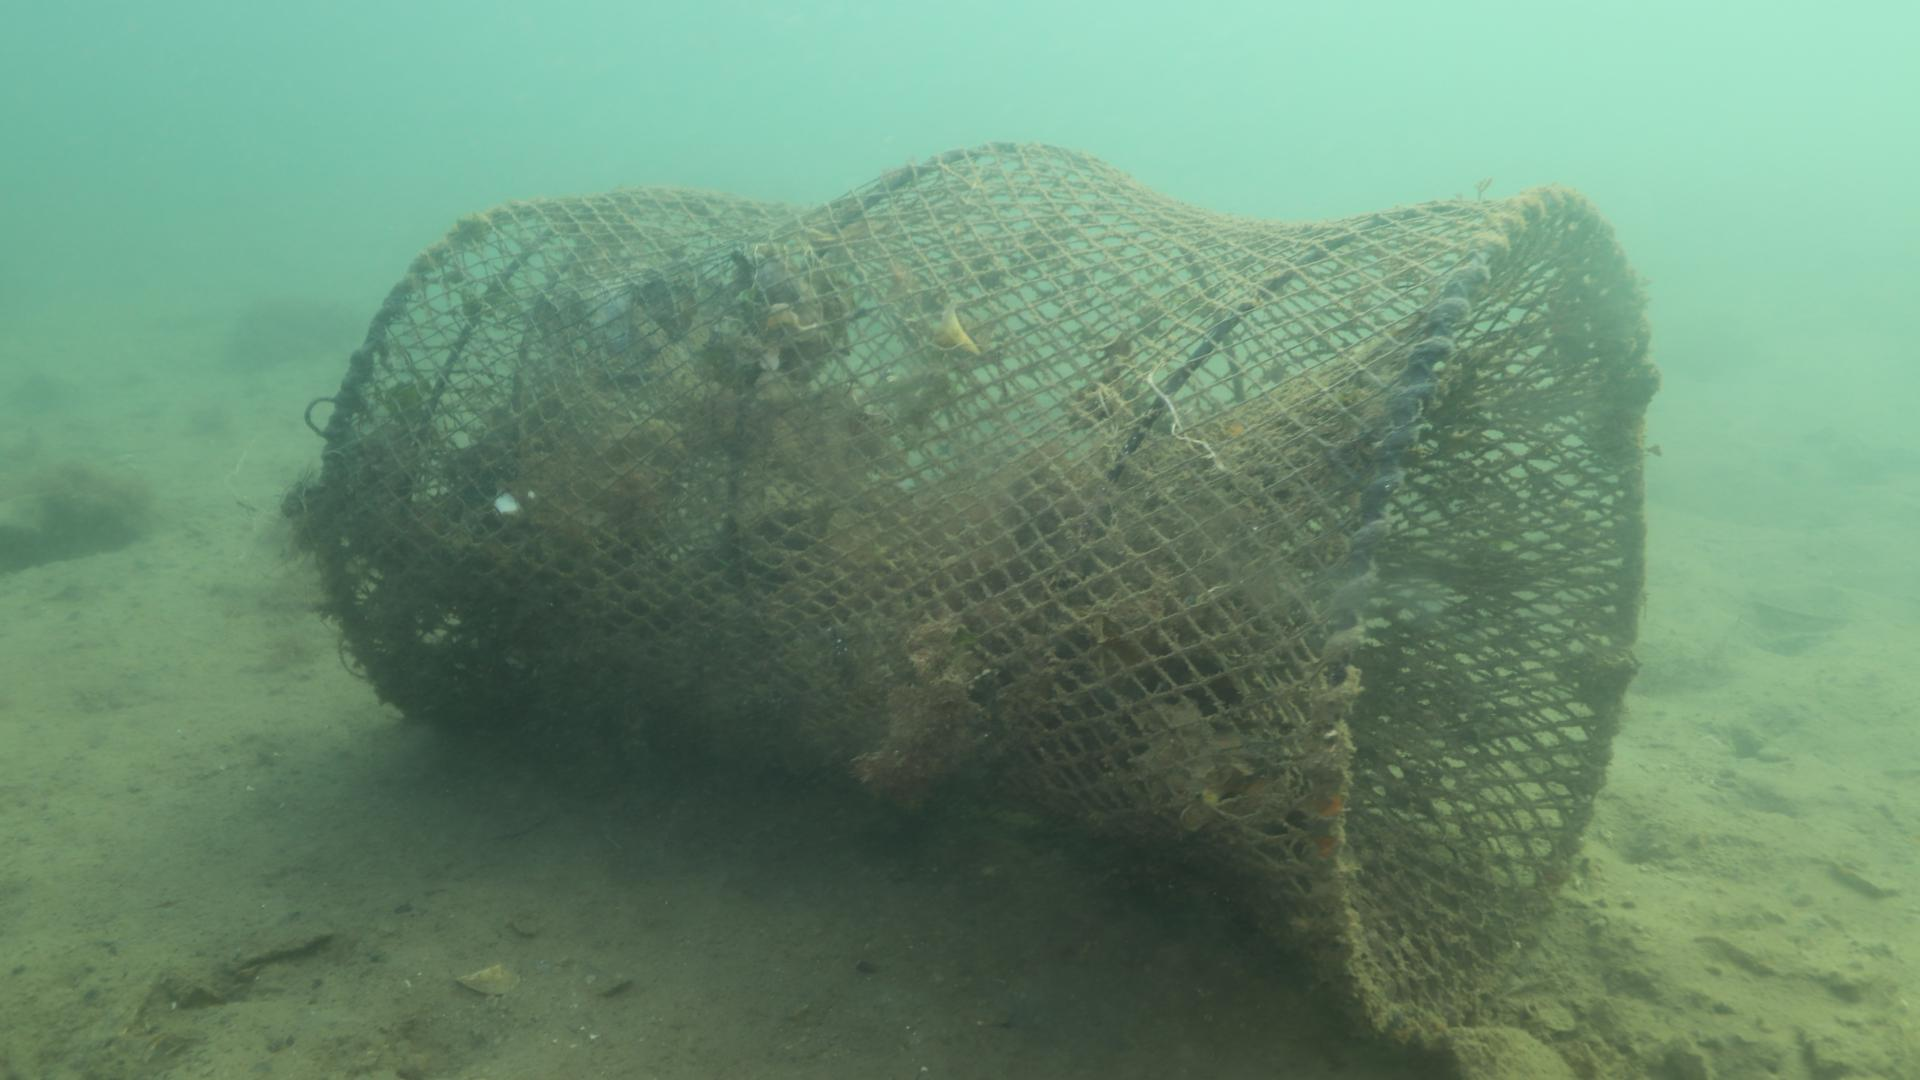spring fish trap: (313, 133, 1647, 1060)
